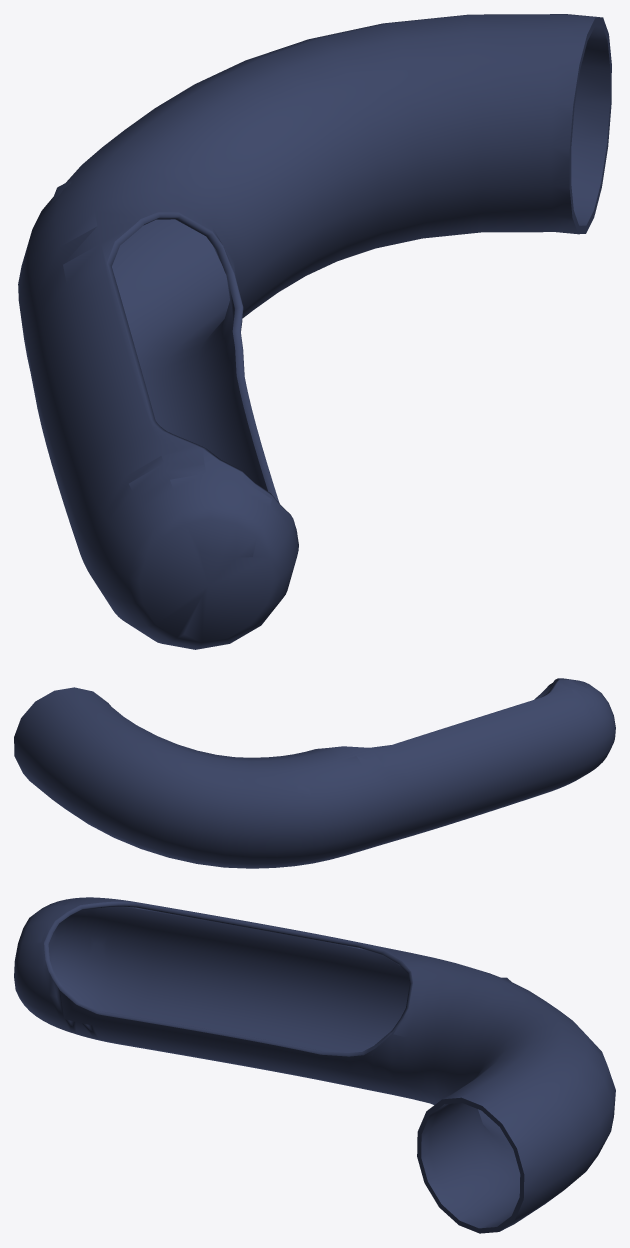
The model's file is inside_02.FBX.
3 renders of one model, top to bottom at view 1: azimuth 30°, elevation 25°; view 2: azimuth 150°, elevation 25°; view 3: azimuth 270°, elevation 25°, orthographic. The views are drawn at different scales.
Parts seen in each view (by area): view 1: inside; view 2: inside; view 3: inside.
Boxes of the visible parts, x1,y1,x2,y2 form: inside: (18, 14, 611, 649); inside: (14, 678, 615, 868); inside: (14, 897, 615, 1233).
Bounding box in the file's own units: 92.51 × 24.39 × 87.3.
